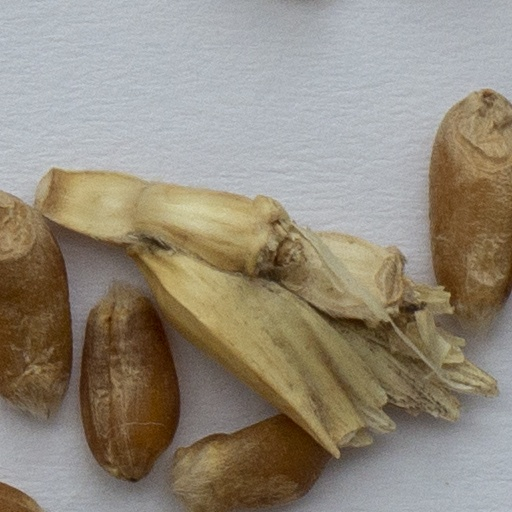Peel-poly: (40, 170, 495, 454)
